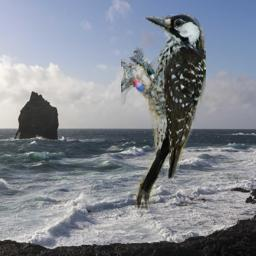Woodpecker: (121, 14, 206, 210)
